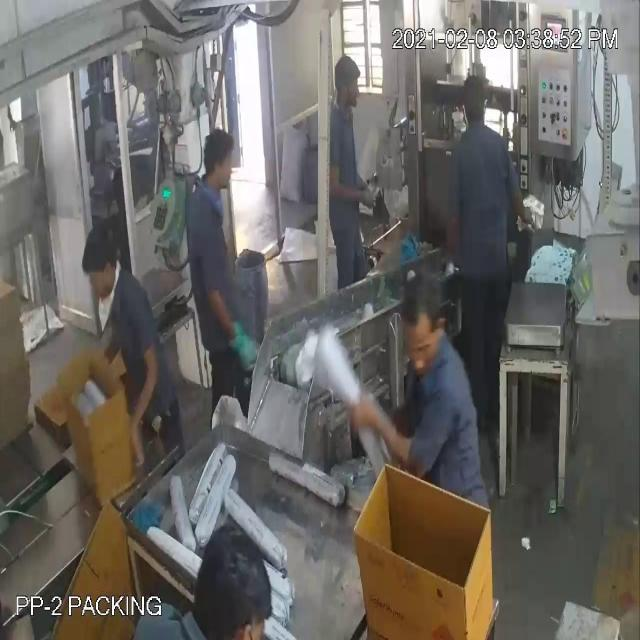No_Gloves: (37, 120, 384, 435)
